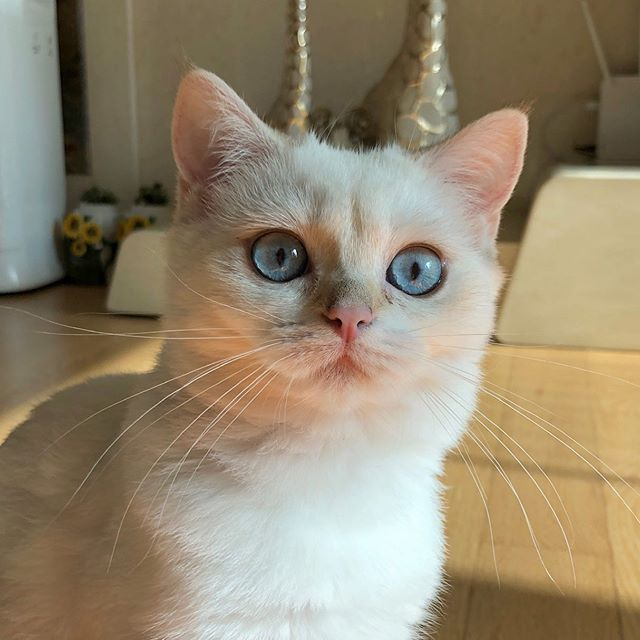cat: (162, 56, 537, 417)
